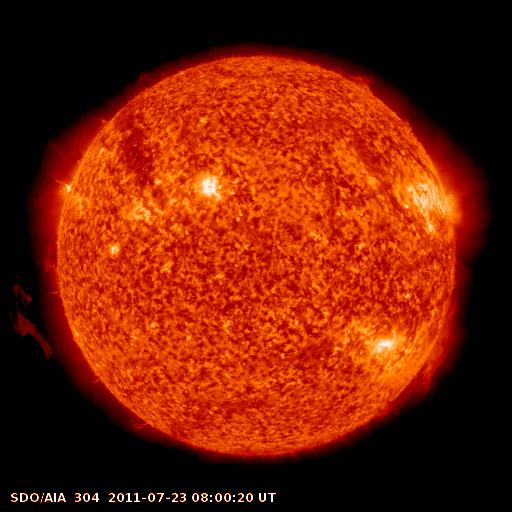prominence: (383, 296, 466, 413), (1, 243, 69, 359), (334, 62, 379, 99)
